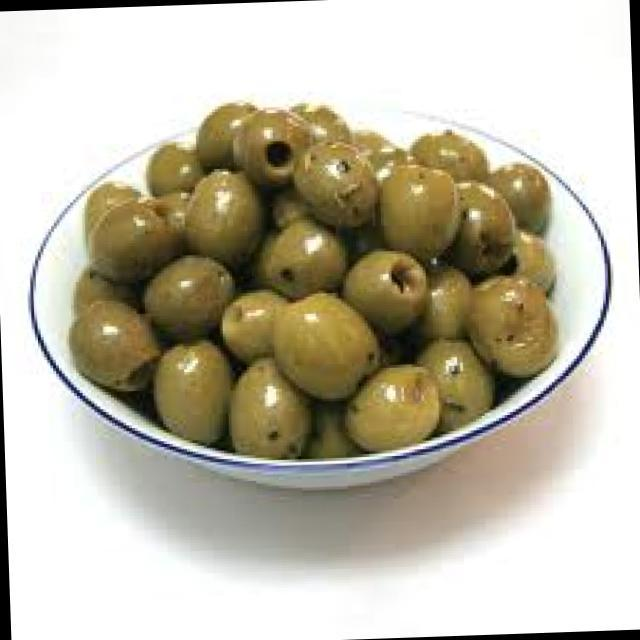Olives: (43, 78, 611, 487)
